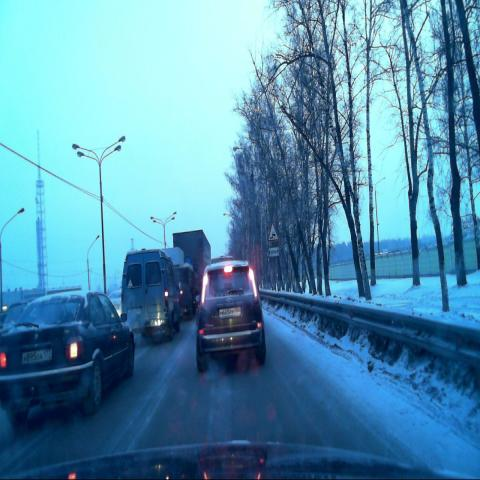1_19: (267, 222, 279, 242)
